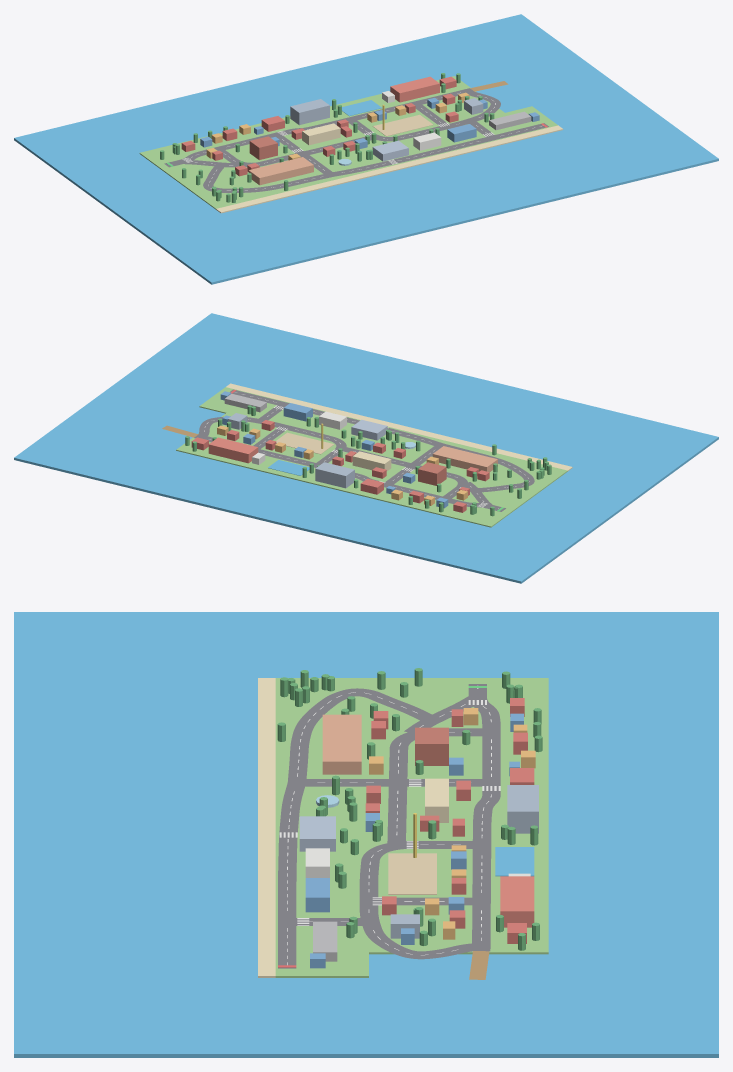
The model's file is Draft1.fbx.
3 renders of one model, top to bottom at view 1: azimuth 30°, elevation 25°; view 2: azimuth 150°, elevation 25°; view 3: azimuth 270°, elevation 25°, orthographic. The views are drawn at different scales.
Parts seen in each view (by area): view 1: Water, Ground_Main, Beach, Road_Bottom, Road_Top, WetMarket, Road_RightLoop, Market, Road_Zigzag, BarangayHall, ConstructionZone, School (+6 smaller); view 2: Water, Ground_Main, Beach, WetMarket, Road_RightLoop, Road_Top, Market, BarangayHall, Road_Bottom, Road_Zigzag, ConstructionZone, Road_Mid (+5 smaller); view 3: Water, Ground_Main, Beach, Road_Top, Road_Bottom, Road_RightLoop, Road_Zigzag, WetMarket, Road_Mid, ConstructionZone, Ground_SE, Market (+11 smaller).
Part boxes in pixels (<box>): Water: <box>14,14,718,284</box>; Ground_Main: <box>139,76,530,209</box>; Beach: <box>216,125,563,213</box>; Road_Bottom: <box>329,123,548,176</box>; Road_Top: <box>164,88,474,167</box>; WetMarket: <box>248,157,313,185</box>; Road_RightLoop: <box>347,90,500,141</box>; Market: <box>390,76,439,102</box>; Road_Zigzag: <box>203,164,332,192</box>; BarangayHall: <box>290,99,329,125</box>; ConstructionZone: <box>373,114,433,136</box>; School: <box>302,123,340,145</box>; Water: <box>14,313,718,583</box>; Ground_Main: <box>176,394,567,527</box>; Beach: <box>226,383,572,471</box>; WetMarket: <box>432,446,497,472</box>; Road_RightLoop: <box>197,416,346,464</box>; Road_Top: <box>194,435,505,511</box>; Market: <box>208,437,258,463</box>; BarangayHall: <box>315,462,354,488</box>; Road_Bottom: <box>230,389,443,446</box>; Road_Zigzag: <box>439,443,534,492</box>; ConstructionZone: <box>276,432,334,454</box>; Road_Mid: <box>342,447,467,500</box>; Water: <box>14,612,718,1057</box>; Ground_Main: <box>275,678,548,954</box>; Beach: <box>258,678,275,977</box>; Road_Top: <box>468,684,500,951</box>; Road_Bottom: <box>278,782,304,968</box>; Road_RightLoop: <box>359,841,482,959</box>; Road_Zigzag: <box>287,688,435,782</box>; WetMarket: <box>322,714,361,774</box>; Road_Mid: <box>387,728,491,844</box>; ConstructionZone: <box>388,853,436,894</box>; Ground_SE: <box>275,952,368,977</box>; Market: <box>500,876,534,927</box>.
Size of the model in its own units: 25800 by 1360 by 17400.
